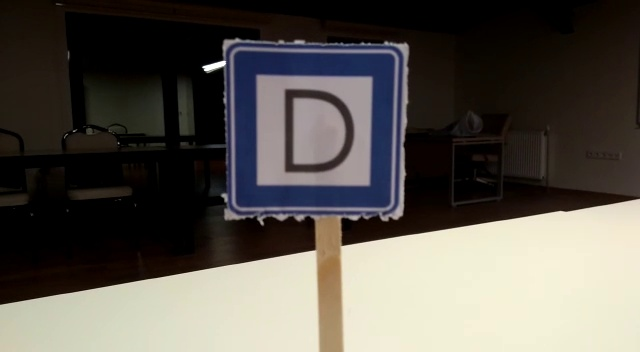durak: (228, 44, 404, 216)
